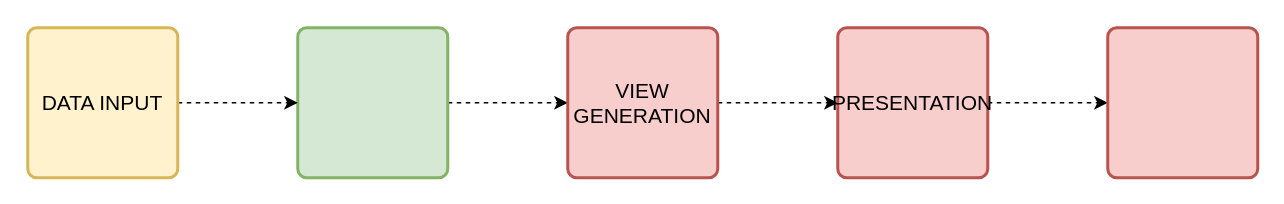
The diagram is 1284 pixels wide and 204 high, and some of its shapes have lost their labels. The centre of each missing label's shape, as x and y in pixels:
"FORMATTERS" goes at (x=1182, y=102).
"MONGODB STORAGE" goes at (x=372, y=102).
